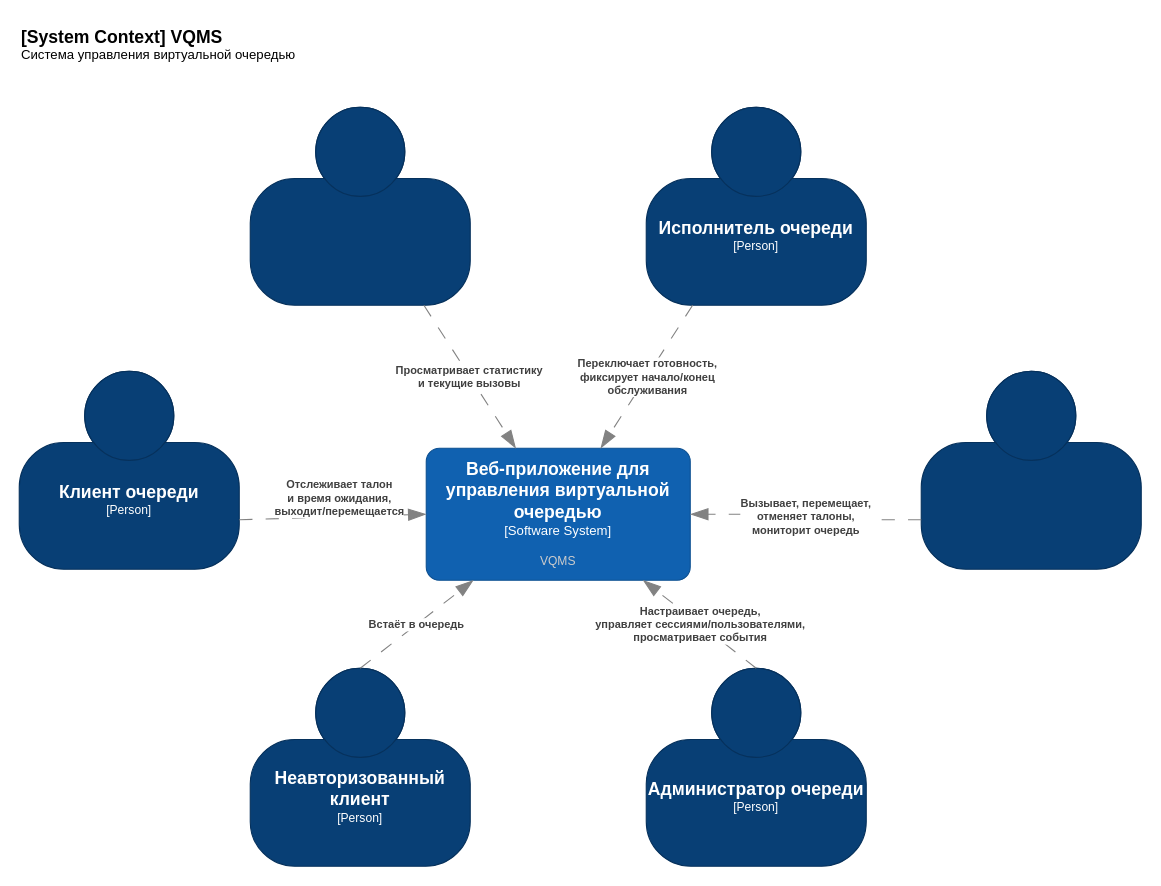
Image size: 1161x886. Some labels were removed from this diagram. The centre of each missing label's shape, as x and y in pixels:
Наблюдатель очереди [Person]: [359,205]
Оператор очереди [Person]: [1030,469]
